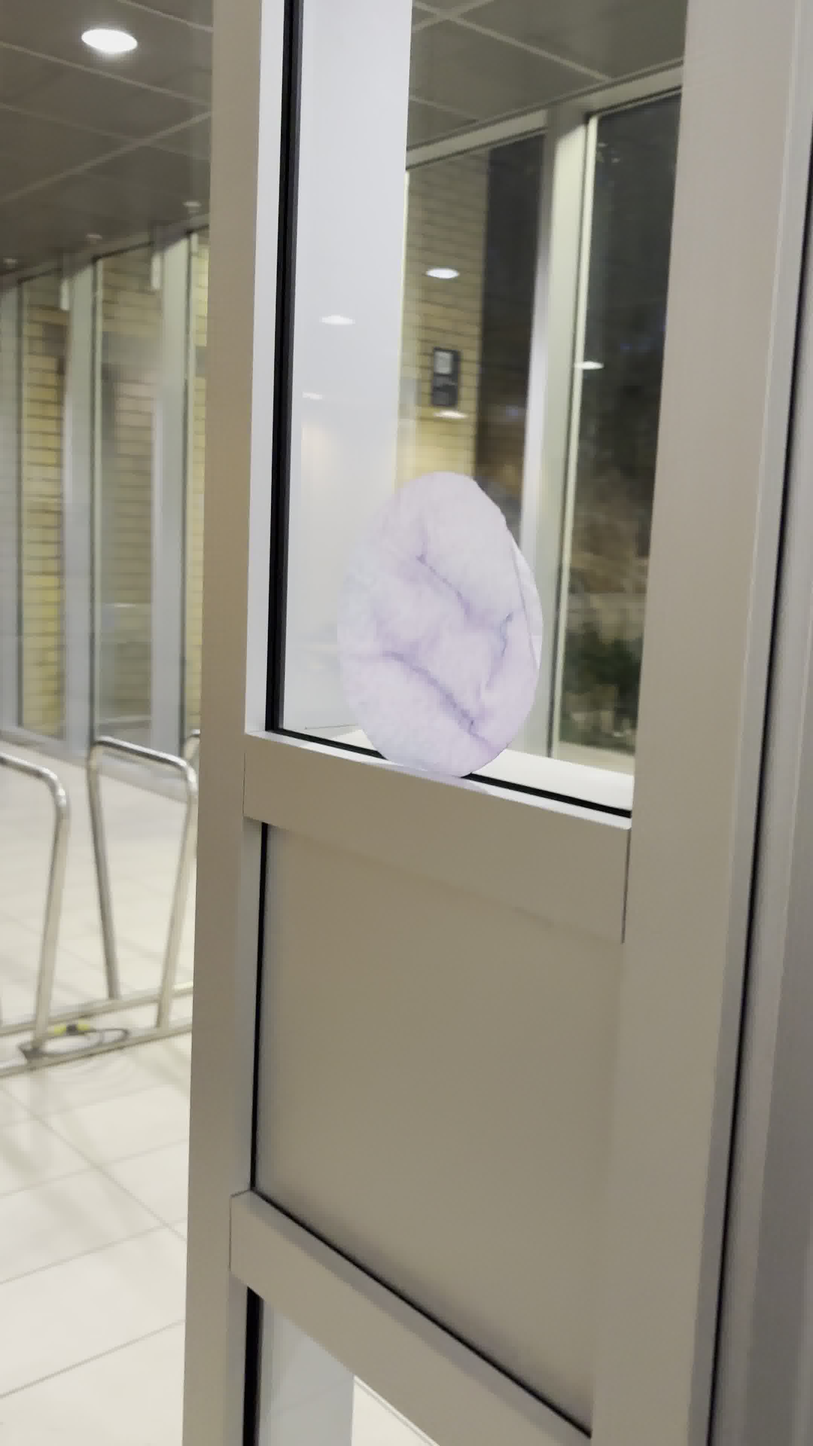Target: (334, 469, 547, 782)
